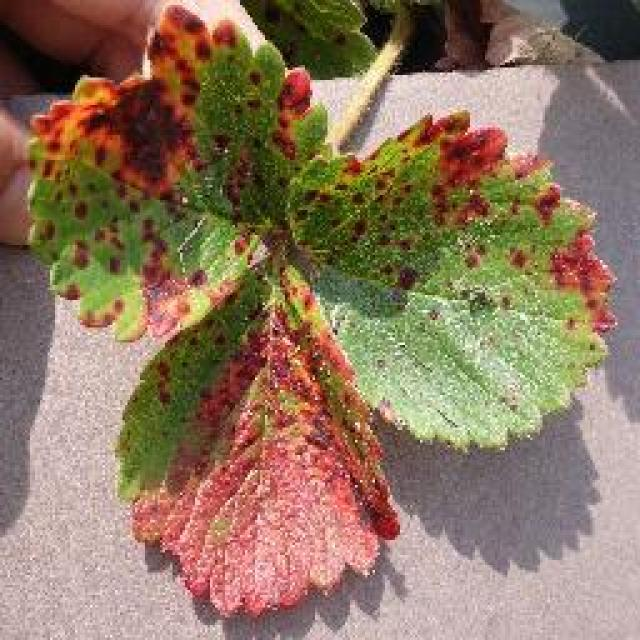Strawberry___Leaf_scorch: (5, 0, 633, 640)
